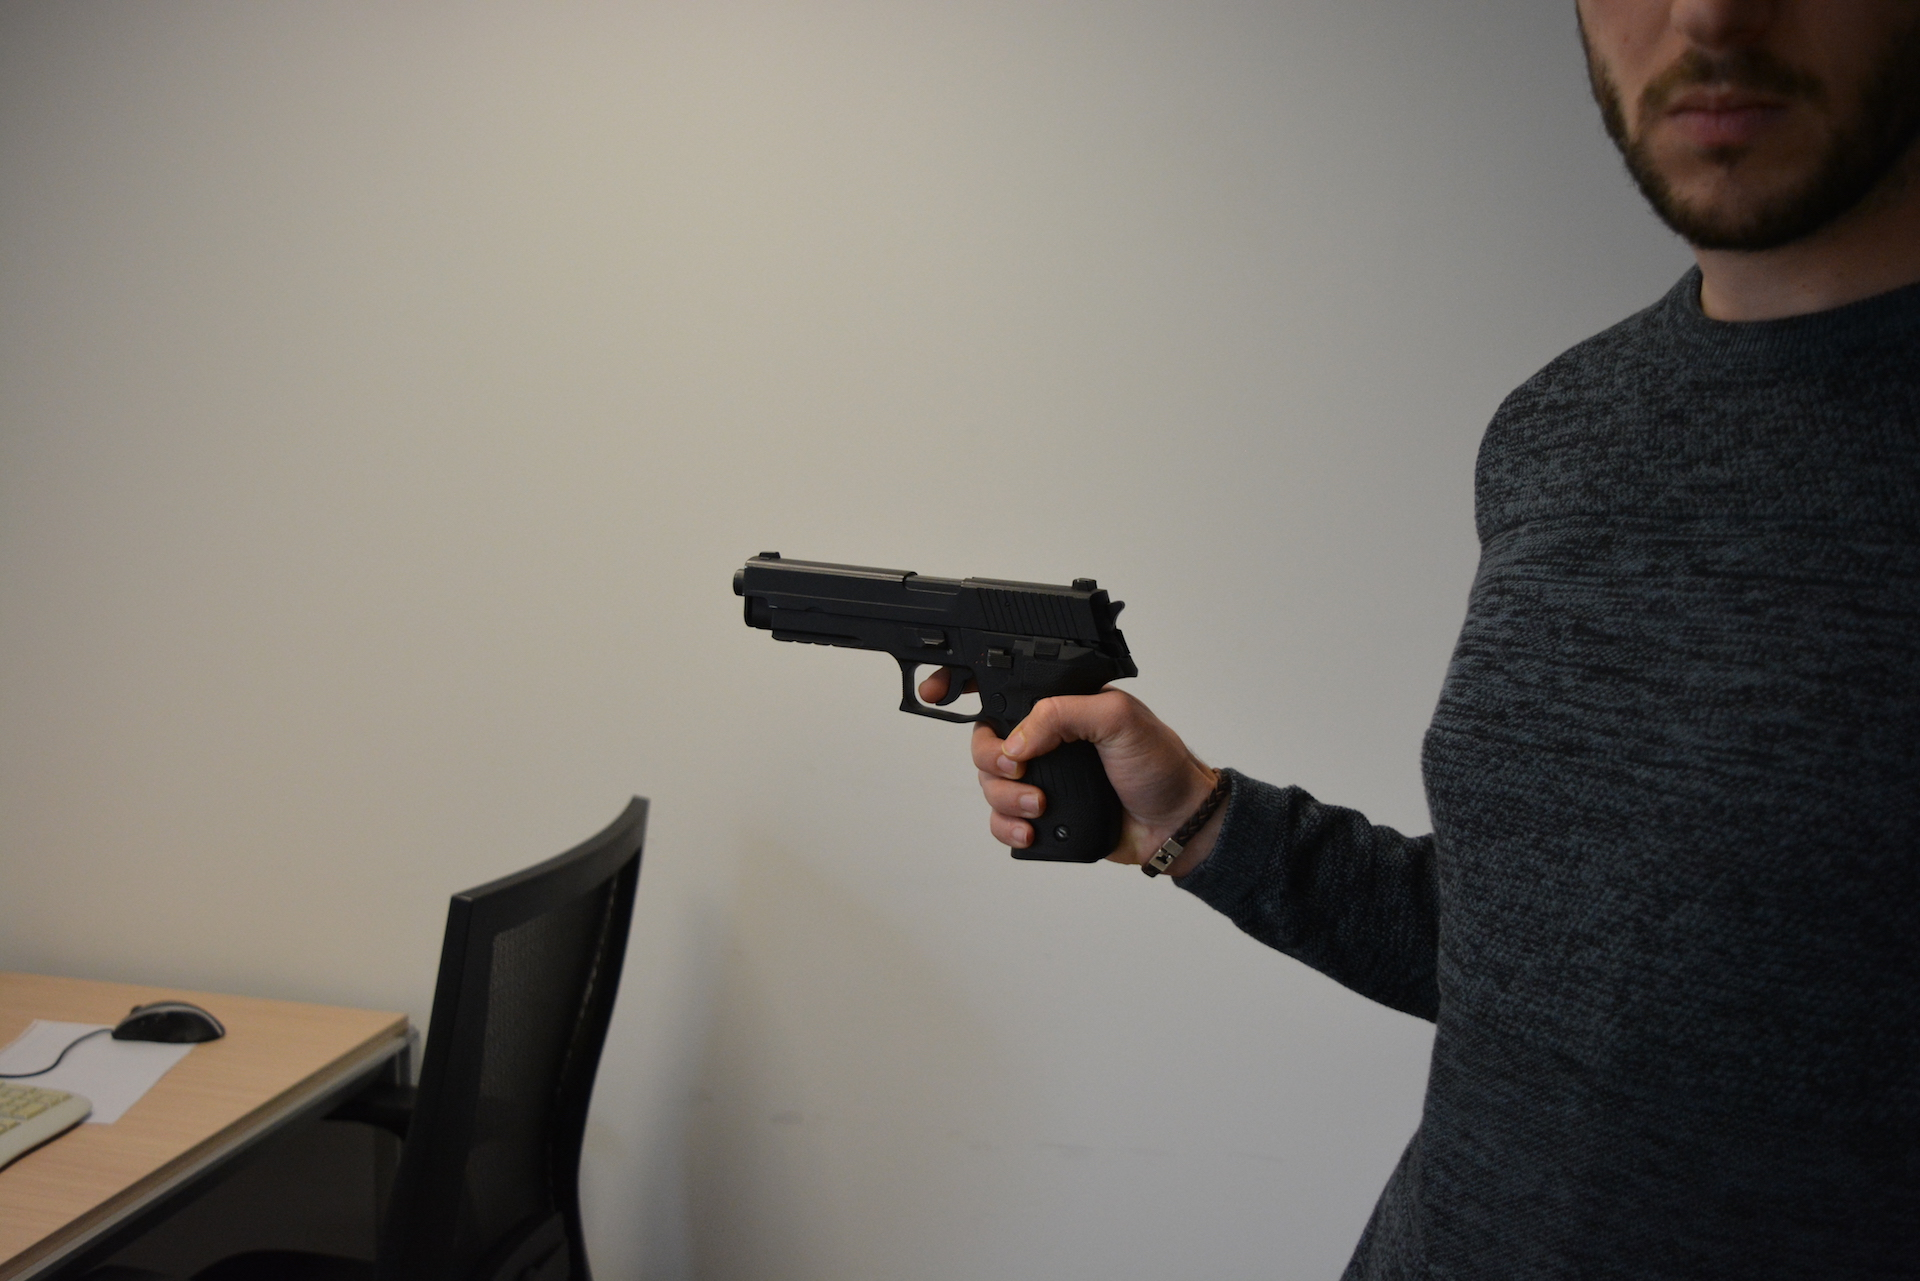pistol: (732, 549, 1139, 866)
